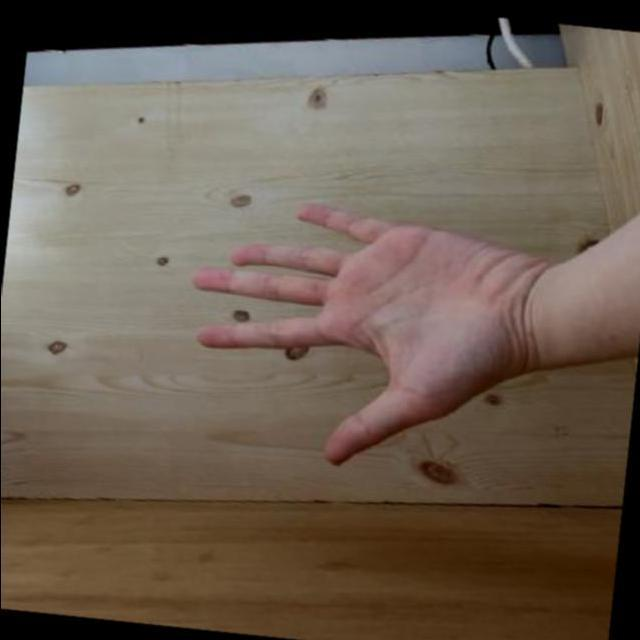hand: (150, 152, 594, 505)
